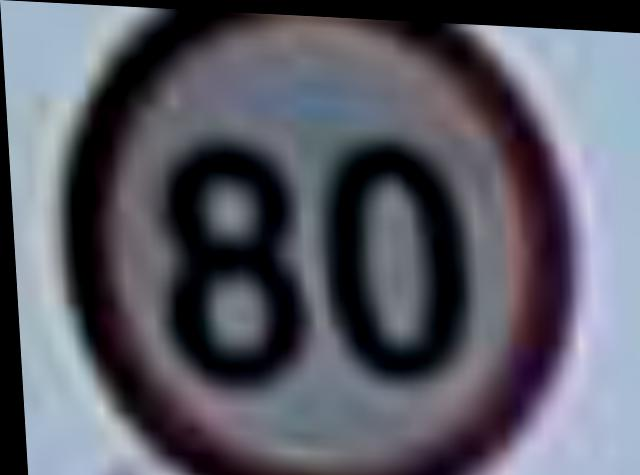limit80: (38, 12, 595, 475)
